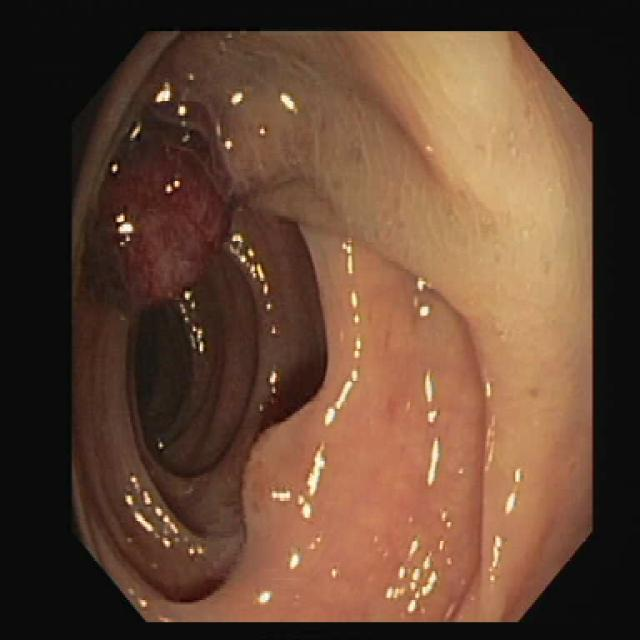tumor: (82, 124, 237, 309), (248, 391, 328, 531)
